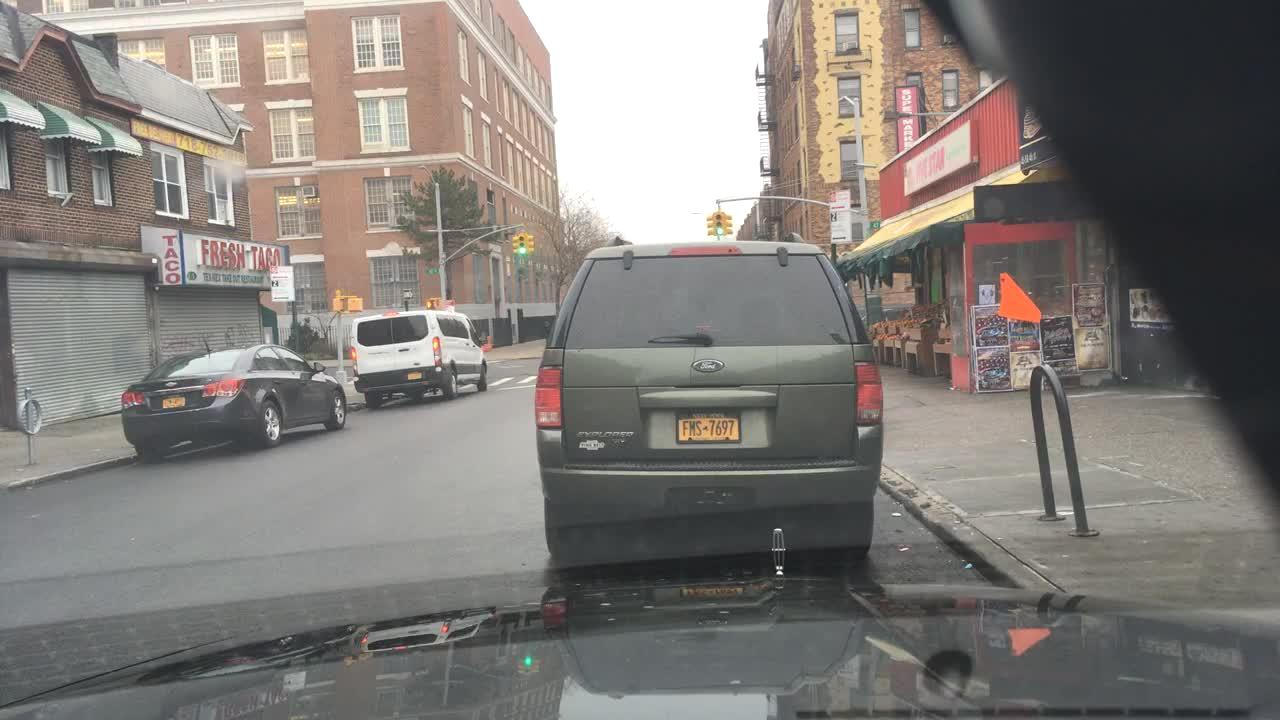chevrolet: (161, 380, 181, 387)
ford: (684, 347, 737, 381)
